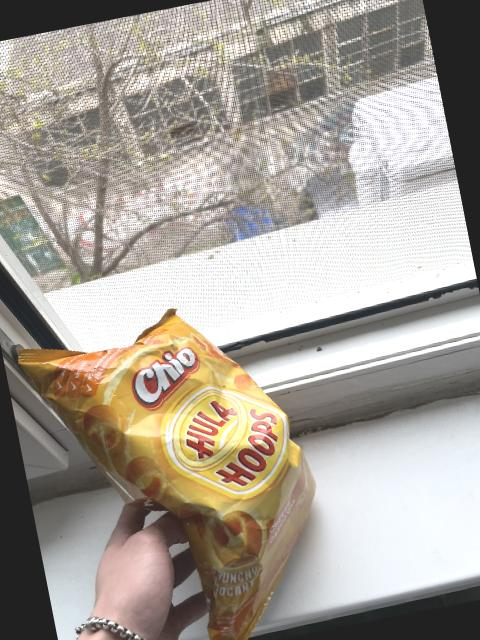Chio Hula Hoops Cheese 70g: (8, 289, 348, 640)
